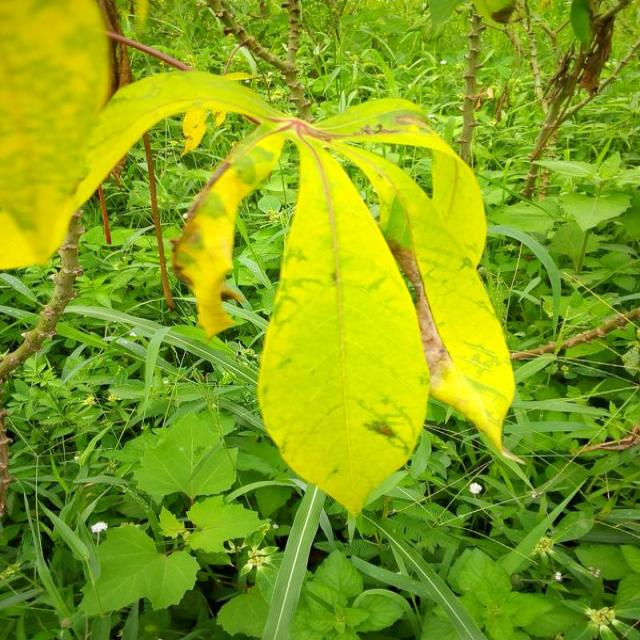cassava leaf: (2, 1, 522, 516), (257, 133, 433, 516)
